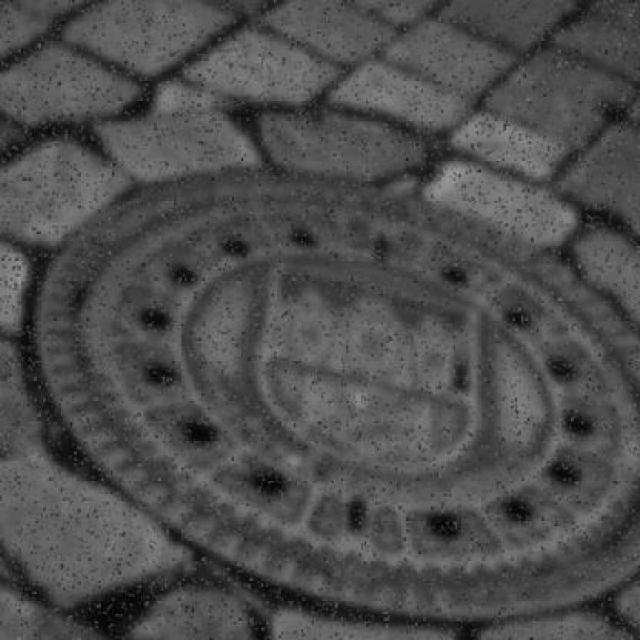Manhole: (31, 156, 640, 624)
